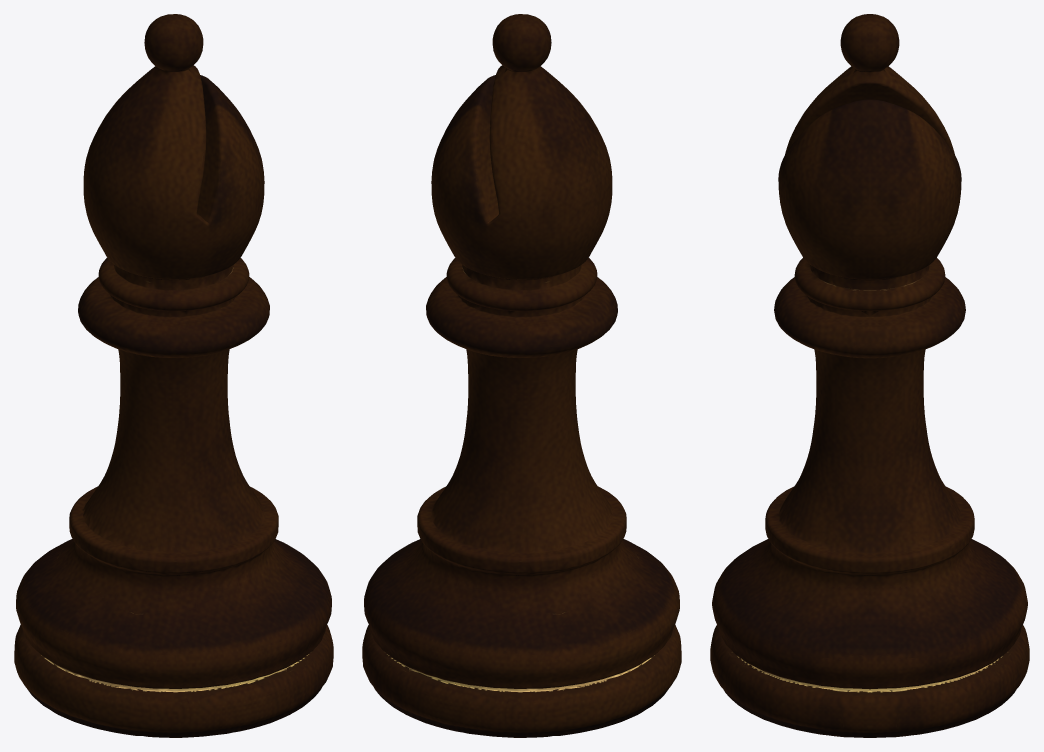
The model's file is 06_bishop_dark.glb.
3 views of the same model, side by side, from view 1: azimuth 30°, elevation 25°; view 2: azimuth 150°, elevation 25°; view 3: azimuth 270°, elevation 25° (orthographic).
Visible parts, largest first — view 1: world; view 2: world; view 3: world.
Boxes of the visible parts, <box> form: world: <box>14,14,333,737</box>; world: <box>362,14,681,737</box>; world: <box>710,14,1029,737</box>.
Size of the model in its own units: 0.4414 by 1 by 0.4414.
Materials: 1 (1 with a texture image).
